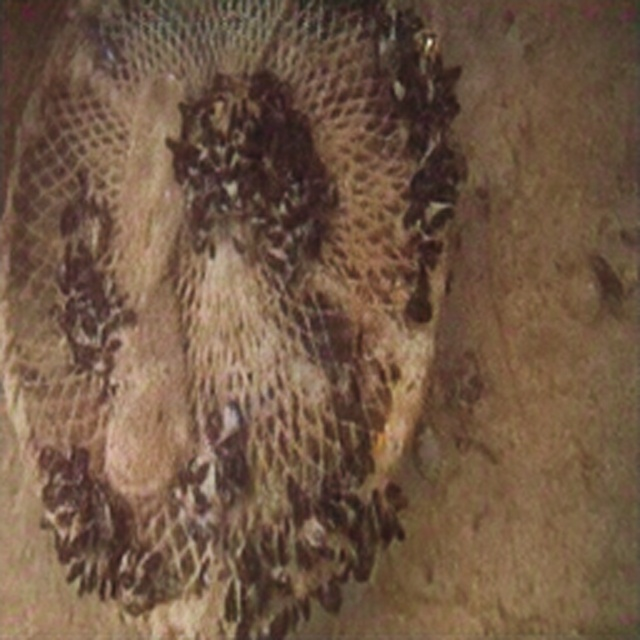mine: (0, 0, 372, 624)
